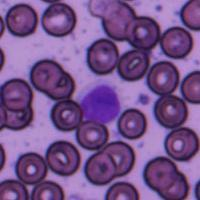L: (78, 79, 124, 124)
